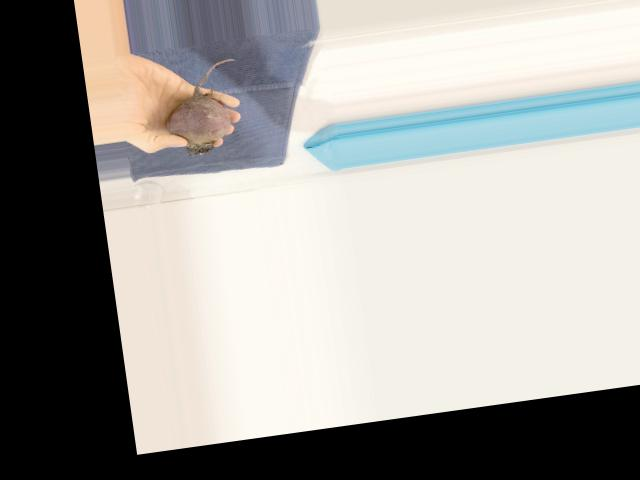beet: (158, 57, 249, 158)
